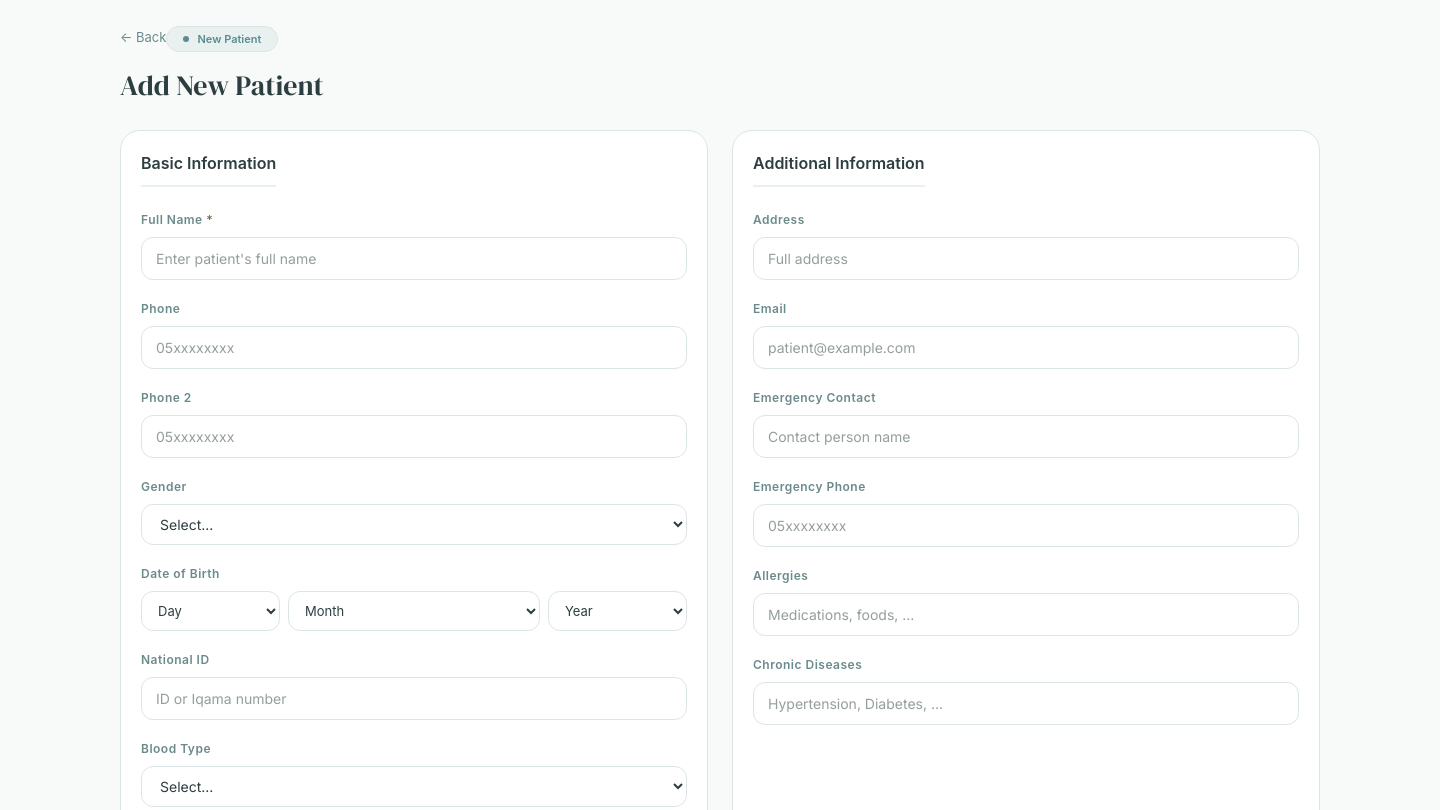
Test: AddPatient › creates the patient and advances to the insurance step
The image size is (1440, 810).
Type "Sara Ahmad" into the field with placeholder "Enter patient's full name" at (414, 259), box [141,237,687,280]
(page scrolled)
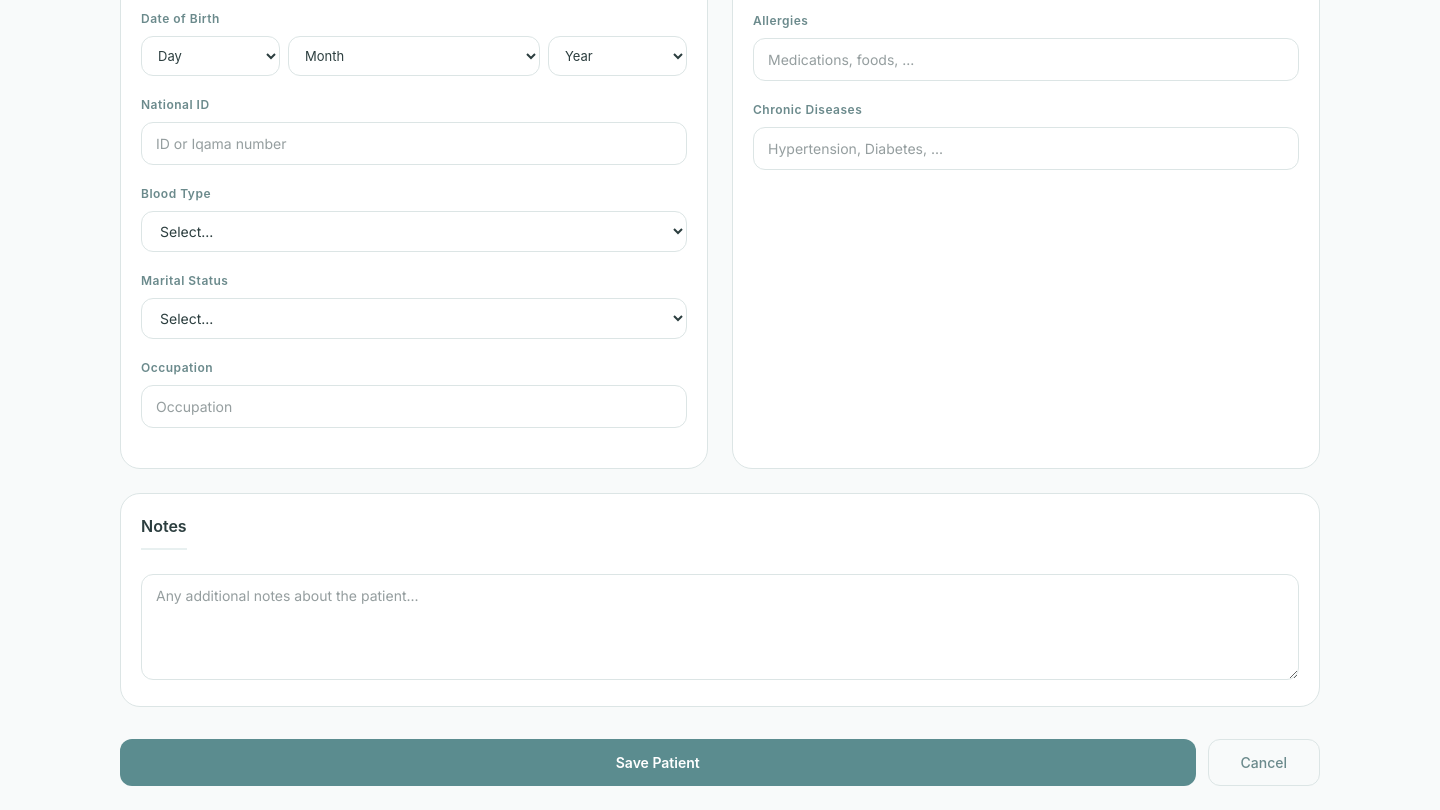
Click the button "Save Patient" at (658, 763), box [120,739,1196,786]
(page scrolled)
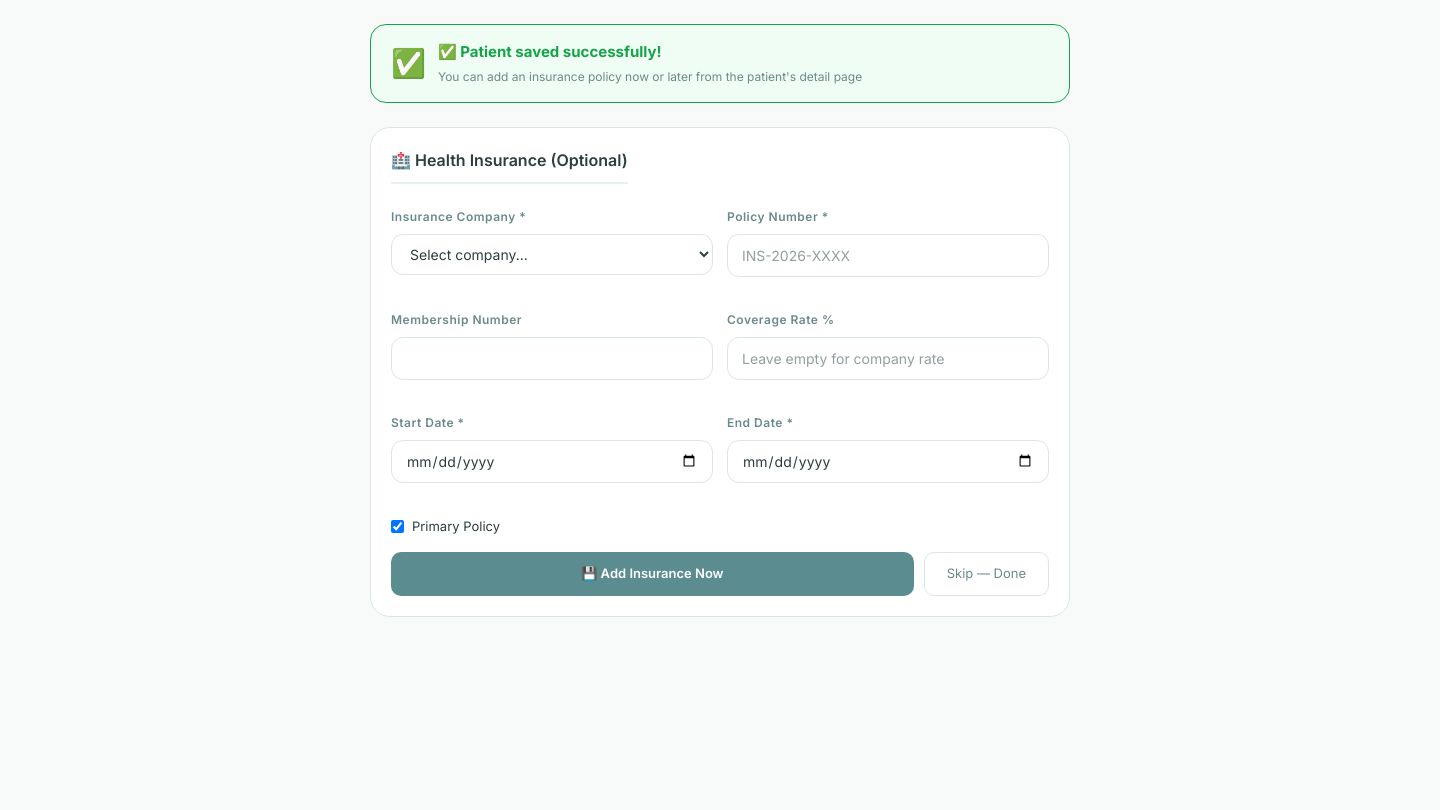
Expected: the text "✅ Patient saved successfully!" is shown, [438,42,662,61]
